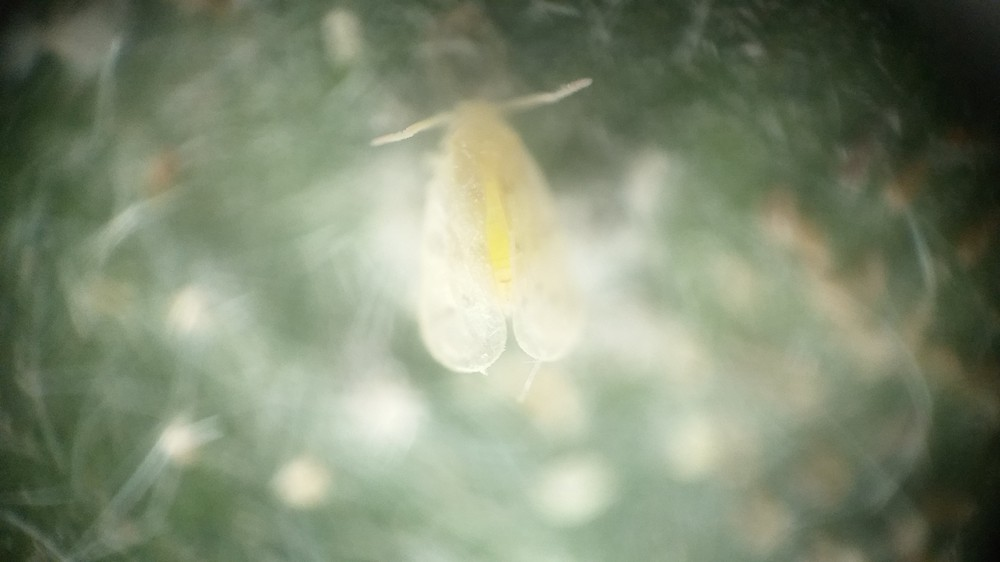Mosca Blanca: (356, 73, 617, 399)
